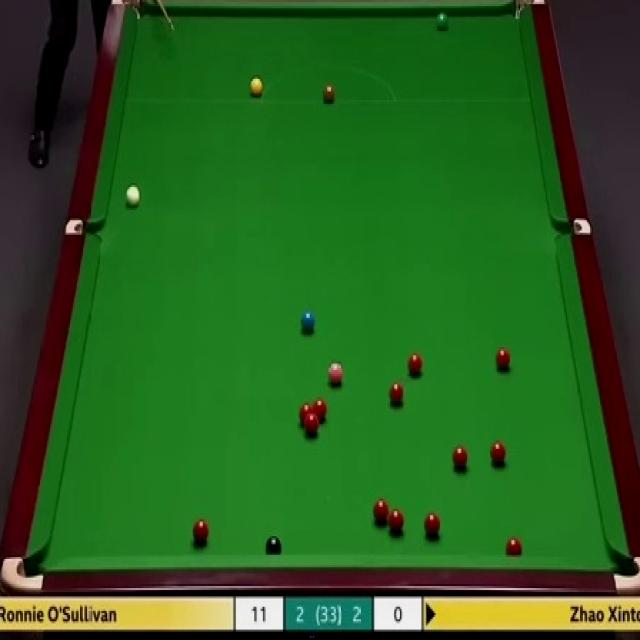black-ball: (265, 535, 284, 557)
blue-ball: (299, 309, 317, 332)
brown-ball: (322, 80, 335, 102)
green-ball: (435, 12, 449, 32)
pink-ball: (327, 362, 344, 388)
red-ball: (451, 445, 471, 472), (423, 513, 442, 541), (191, 518, 209, 546), (409, 352, 428, 378), (388, 506, 404, 536), (372, 500, 390, 526), (491, 440, 508, 466), (495, 347, 510, 373), (299, 403, 313, 429), (313, 398, 327, 423), (505, 536, 523, 554), (390, 382, 404, 404), (305, 416, 320, 436)
white-ball: (125, 184, 142, 208)
yellow-ball: (249, 79, 262, 96)
